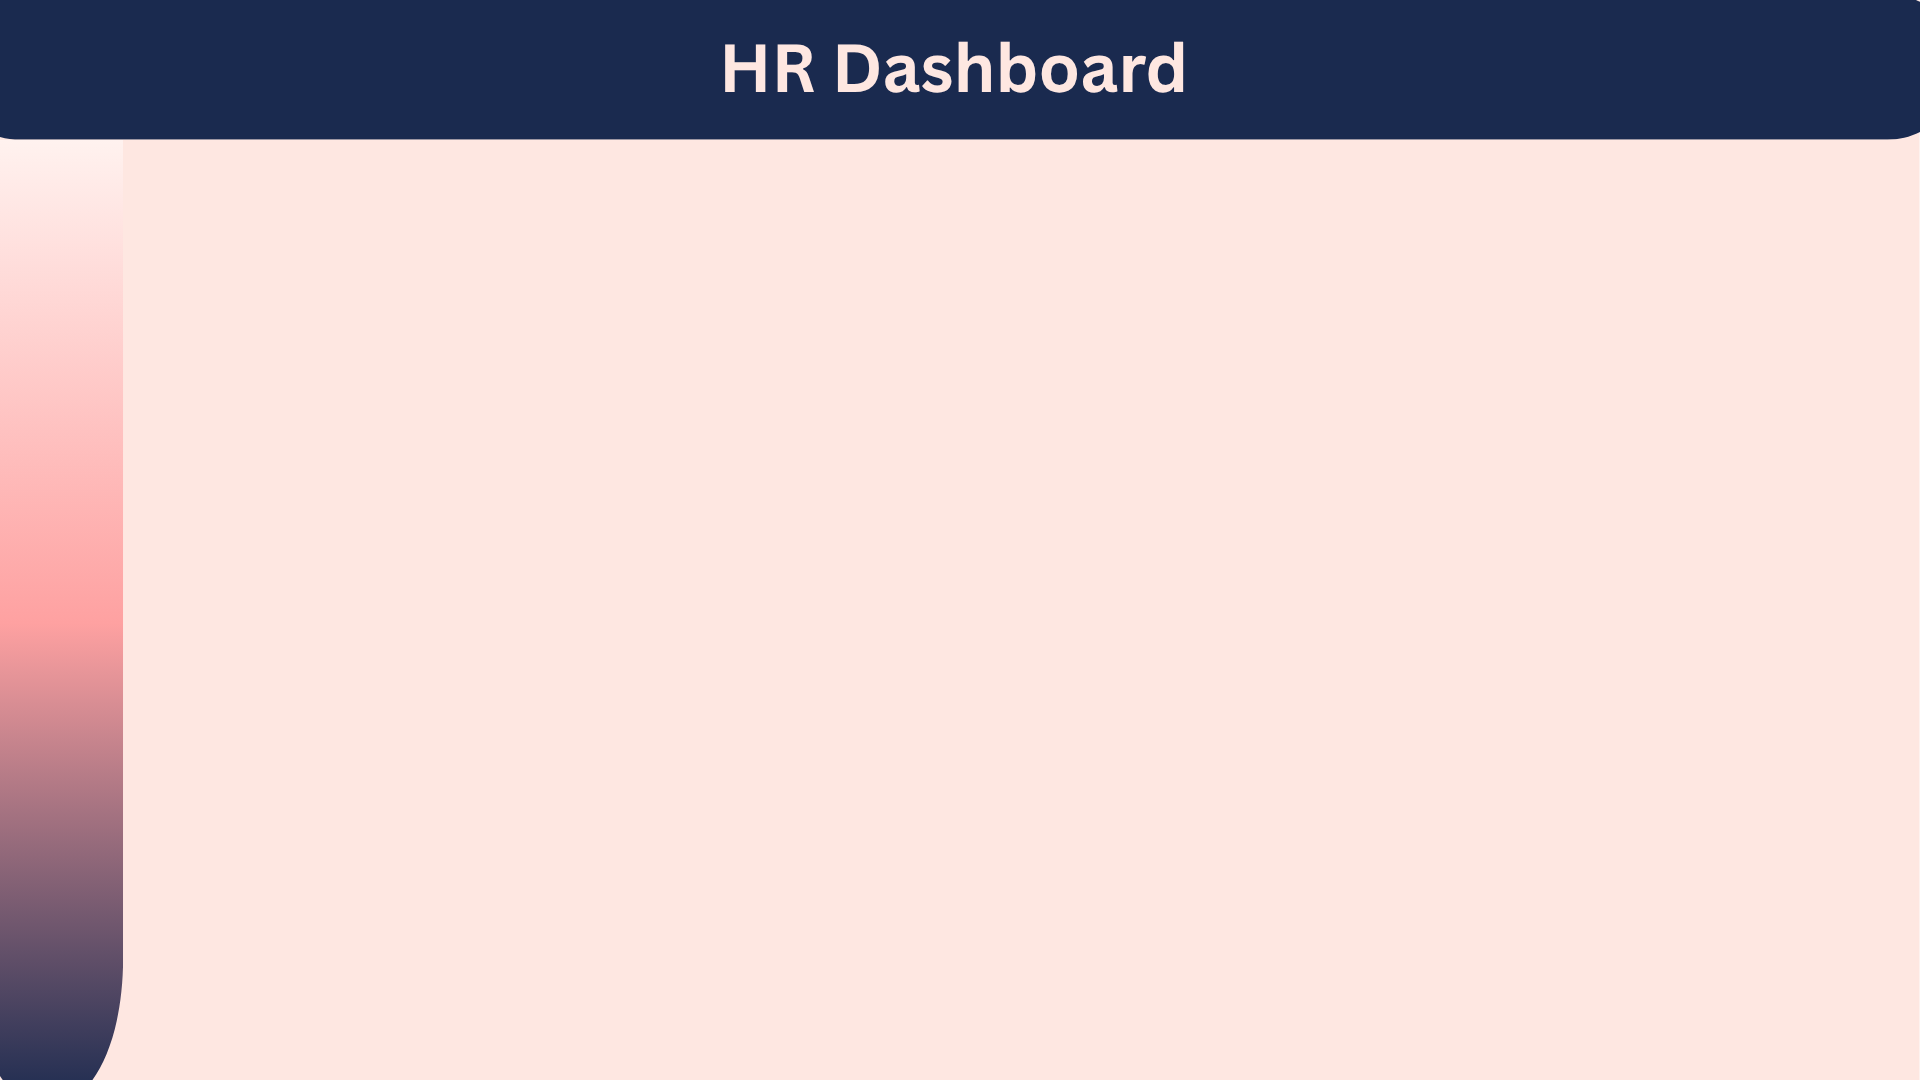

The dashboard page shown, as its layout file describes it:
{"tool":"powerbi","page":{"name":"HOME","canvas":[1280,720],"ordinal":0},"visuals":[{"type":"image","box":[0,208.6,74.1,74.1],"z":0,"group":"g1"},{"type":"image","box":[2.7,104.3,74.1,72.7],"z":0},{"type":"shape","box":[0,208.6,492.6,74.1],"z":1000,"group":"g1"},{"type":"shape","box":[2.3,104.7,74.4,74.4],"z":1000},{"type":"group","id":"g1","title":"Group 1","box":[0,208.6,492.6,74.1],"z":2000}]}

Visuals, with their boxes in screenshot pixels (x1, y1, x2, y2), scaled from the page's 1280x720 canvas onto the 1920x1080 screenshot:
image: [0, 313, 111, 424]
image: [4, 156, 115, 266]
shape: [0, 313, 739, 424]
shape: [3, 157, 115, 269]
"Group 1" group: [0, 313, 739, 424]
